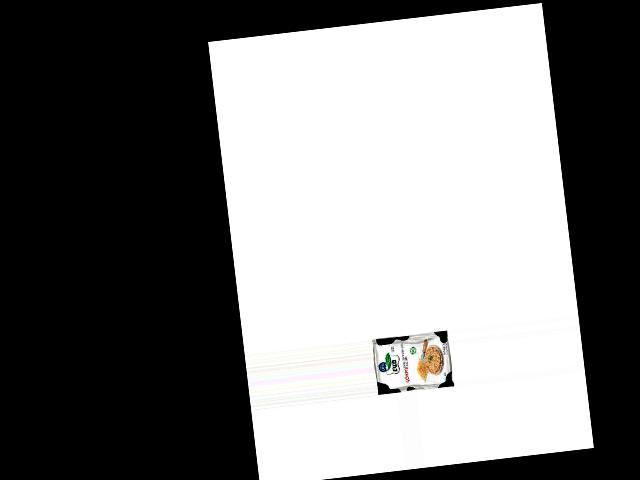cheese: (371, 329, 455, 396)
